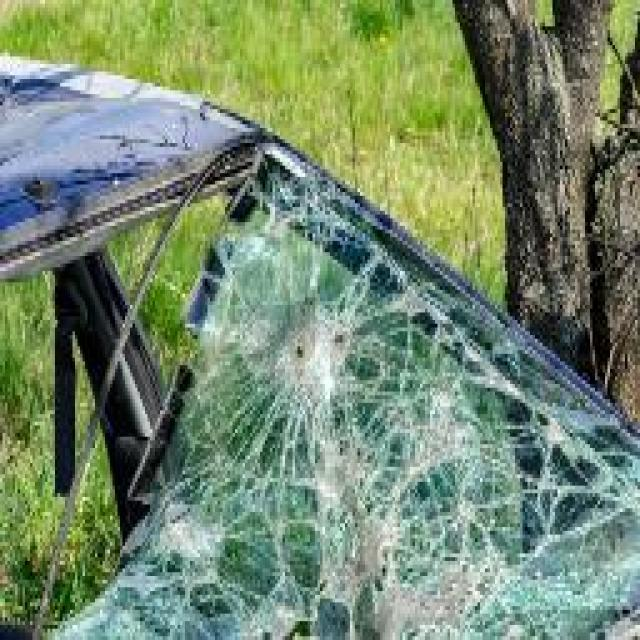Windshield: (0, 118, 640, 640)
